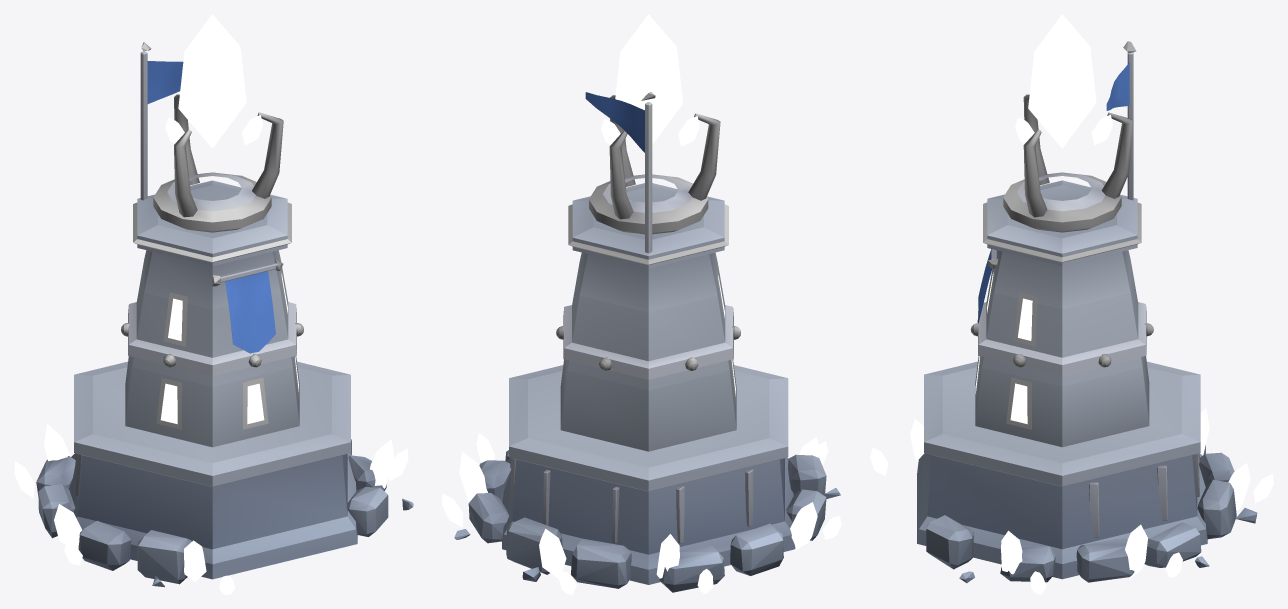
File: frost_0_2.glb
3 views of the same model, side by side, from view 1: azimuth 30°, elevation 25°; view 2: azimuth 150°, elevation 25°; view 3: azimuth 270°, elevation 25° (orthographic).
Visible parts, largest first — view 1: Tower, Turret; view 2: Tower, Turret; view 3: Tower, Turret.
Boxes of the visible parts, x1=… form: Tower: x1=14, y1=42, x2=413, y2=594; Turret: x1=153, y1=14, x2=283, y2=232; Tower: x1=442, y1=92, x2=841, y2=594; Turret: x1=589, y1=14, x2=720, y2=234; Tower: x1=870, y1=41, x2=1273, y2=594; Turret: x1=1003, y1=14, x2=1133, y2=232.
Bounding box in the file's own units: 4.1 × 5.65 × 4.09.
